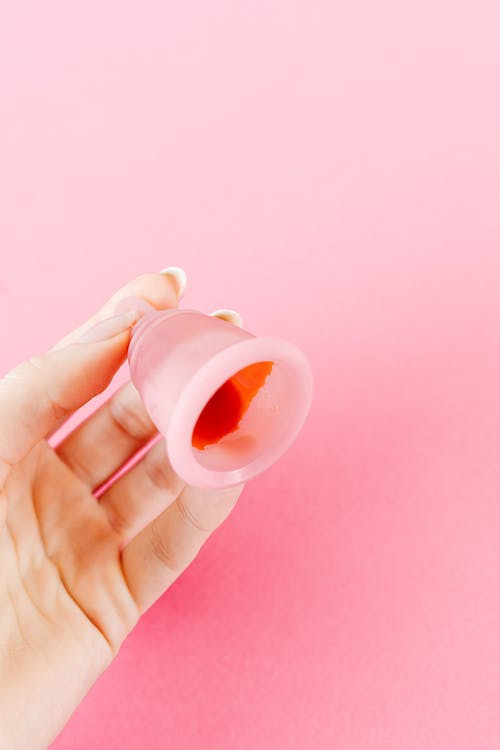blood: (186, 355, 280, 452)
